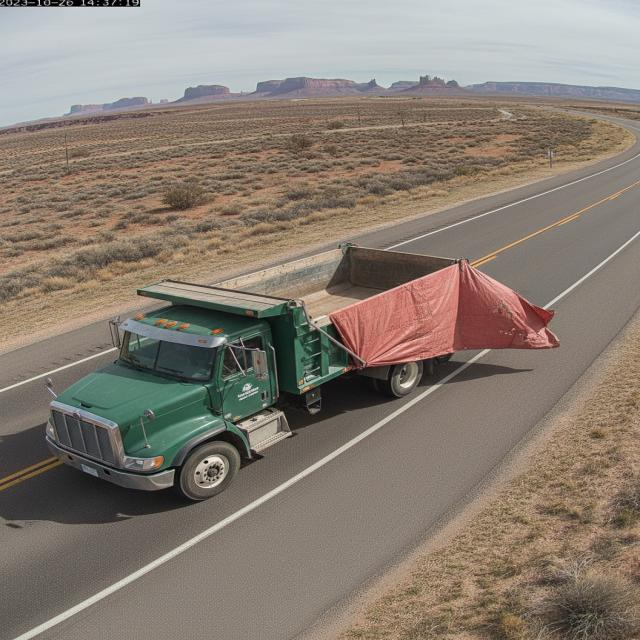trailer: (134, 245, 478, 311)
truck: (30, 242, 523, 492)
